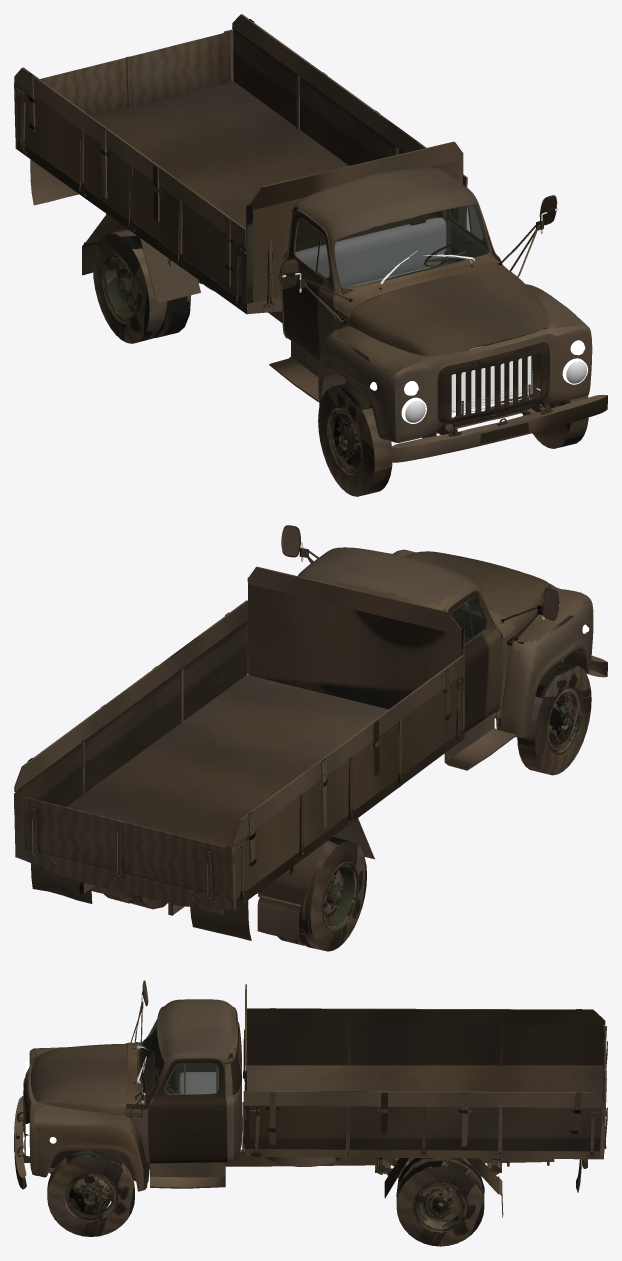
File: gaz.glb
The picture shows the model from 3 angles, top to bottom: view 1: azimuth 30°, elevation 25°; view 2: azimuth 150°, elevation 25°; view 3: azimuth 270°, elevation 25°; orthographic projection. The views are drawn at different scales.
Visible parts, largest first — view 1: body, tailgate, wheel_rr, wheel_fr, wheel_fl; view 2: body, tailgate, wheel_fr, wheel_rr; view 3: body, wheel_rl, wheel_fl, tailgate.
Boxes of the visible parts, bbox=[...] form: body: bbox=[14, 14, 607, 462]; tailgate: bbox=[14, 29, 233, 149]; wheel_rr: bbox=[93, 229, 191, 343]; wheel_fr: bbox=[318, 382, 392, 496]; wheel_fl: bbox=[522, 395, 588, 448]; body: bbox=[14, 525, 607, 940]; tailgate: bbox=[14, 786, 236, 910]; wheel_fr: bbox=[517, 661, 591, 775]; wheel_rr: bbox=[277, 837, 366, 951]; body: bbox=[14, 980, 605, 1218]; wheel_rl: bbox=[396, 1158, 484, 1246]; wheel_fl: bbox=[47, 1150, 134, 1236]; tailgate: bbox=[600, 1026, 607, 1159].
Bounding box in the file's own units: 2.6 × 2.16 × 6.22.
9 materials, 7 textured.
